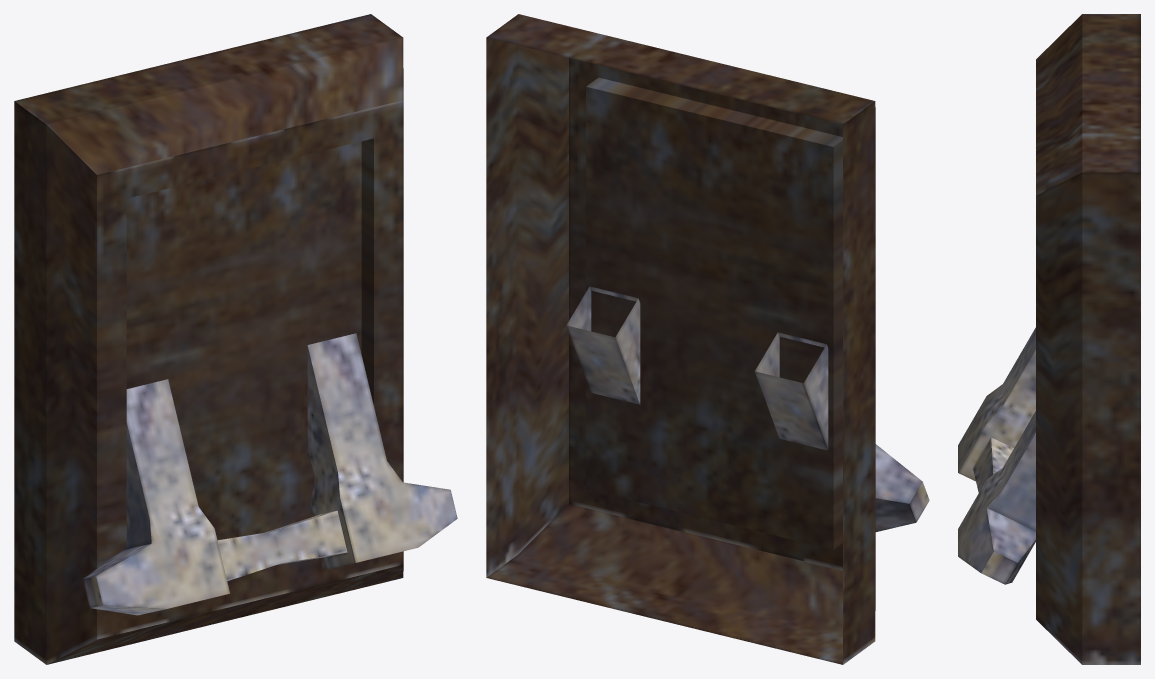
The model's file is Lever.glb.
3 views of the same model, side by side, from view 1: azimuth 30°, elevation 25°; view 2: azimuth 150°, elevation 25°; view 3: azimuth 270°, elevation 25° (orthographic). The views are drawn at different scales.
Parts seen in each view (by area): view 1: Base, Lever; view 2: Base, Lever; view 3: Base, Lever.
Boxes of the visible parts, <box> form: Base: <box>14,14,403,664</box>; Lever: <box>83,333,457,615</box>; Base: <box>486,14,875,664</box>; Lever: <box>566,286,929,531</box>; Base: <box>1036,14,1140,664</box>; Lever: <box>958,327,1035,584</box>.
Size of the model in its own units: 1.61 by 2.33 by 0.7825.
2 materials, 2 textured.
